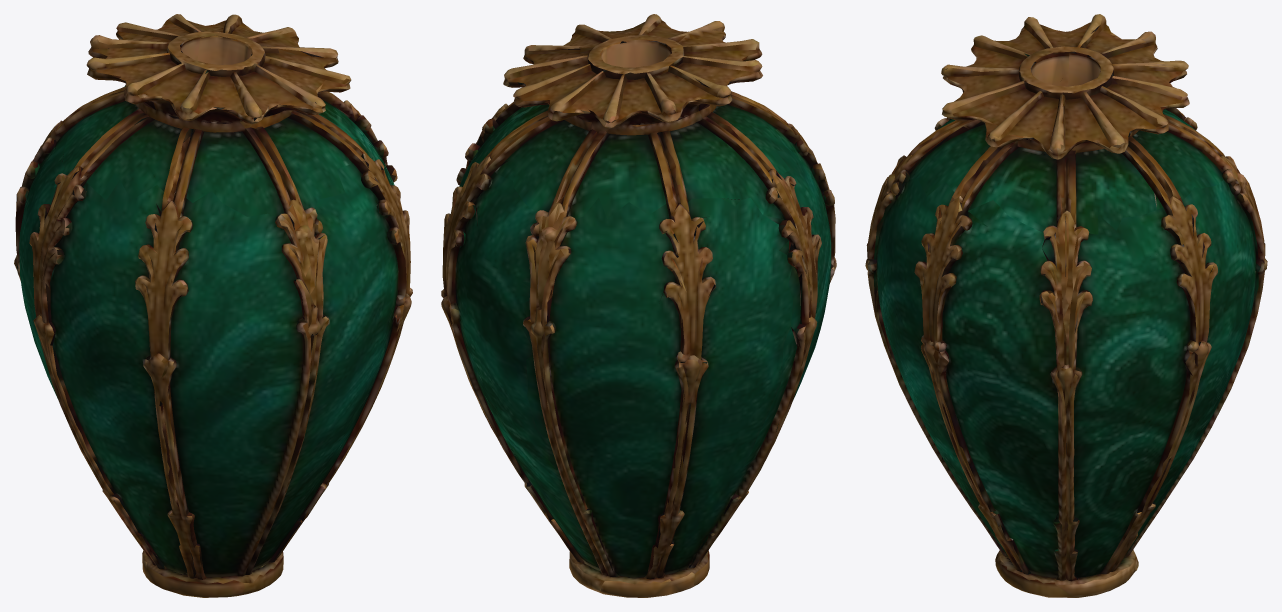
The model's file is MO-10_vase_game.glb.
3 views of the same model, side by side, from view 1: azimuth 30°, elevation 25°; view 2: azimuth 150°, elevation 25°; view 3: azimuth 270°, elevation 25° (orthographic). The views are drawn at different scales.
Visible parts, largest first — view 1: MO-10_vase; view 2: MO-10_vase; view 3: MO-10_vase.
Part boxes in pixels (x1,y1,x2,y2): MO-10_vase: [14, 14, 412, 597]; MO-10_vase: [441, 14, 836, 597]; MO-10_vase: [865, 14, 1267, 597].
Size of the model in its own units: 0.2684 by 0.3801 by 0.2725.
Materials: 1 (1 with a texture image).
